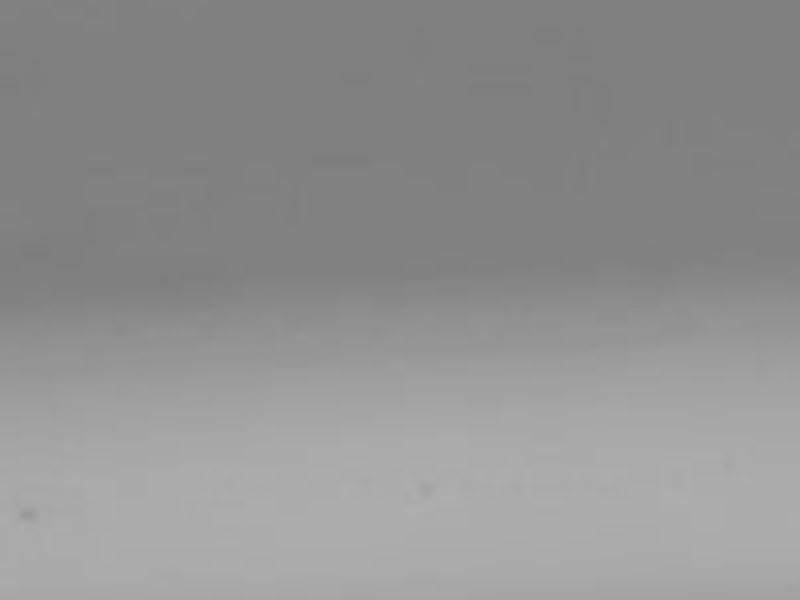defect: (414, 478, 435, 502), (18, 505, 36, 520)
